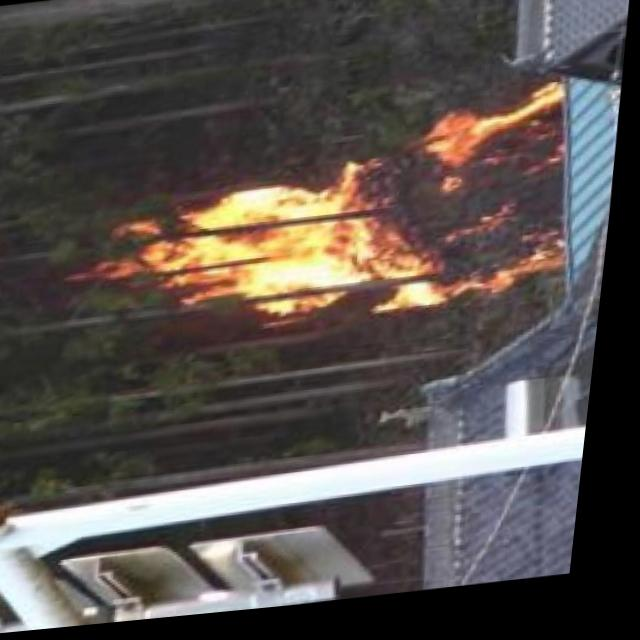Fire: (93, 103, 584, 354)
